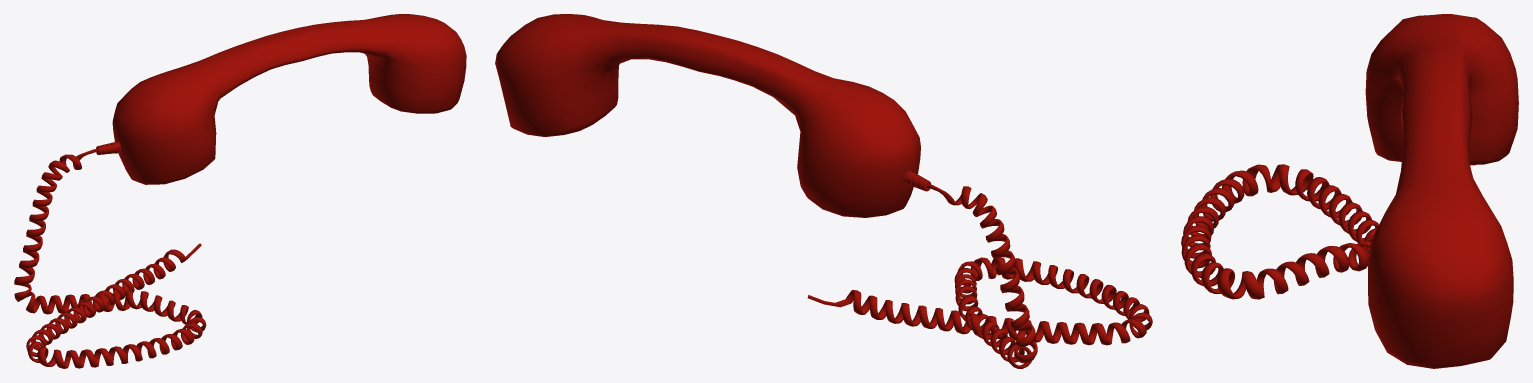
File: Phone.glb
The picture shows the model from 3 angles, left to right: view 1: azimuth 30°, elevation 25°; view 2: azimuth 150°, elevation 25°; view 3: azimuth 270°, elevation 25°; orthographic projection. The views are drawn at different scales.
Parts seen in each view (by area): view 1: Phone_Head, Phone_cable; view 2: Phone_Head, Phone_cable; view 3: Phone_Head, Phone_cable.
Part boxes in pixels (left/top/right/bottom): Phone_Head: left=112, top=14, right=466, bottom=184; Phone_cable: left=14, top=141, right=206, bottom=368; Phone_Head: left=495, top=14, right=920, bottom=217; Phone_cable: left=807, top=170, right=1152, bottom=368; Phone_Head: left=1365, top=14, right=1518, bottom=368; Phone_cable: left=1181, top=164, right=1378, bottom=299.
Size of the model in its own units: 0.3918 by 0.1654 by 0.1504.
2 materials, 2 textured.
